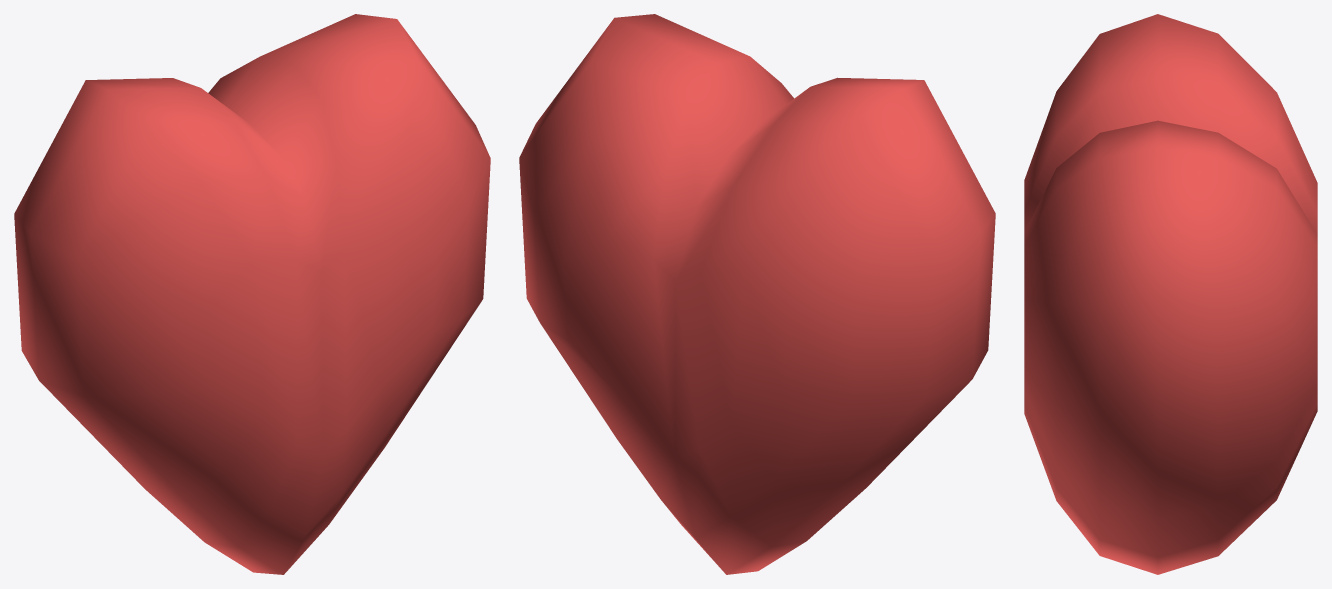
Rendered from health power.fbx.
The picture shows the model from 3 angles, left to right: view 1: azimuth 30°, elevation 25°; view 2: azimuth 150°, elevation 25°; view 3: azimuth 270°, elevation 25°; orthographic projection. The views are drawn at different scales.
Visible parts, largest first — view 1: Cube; view 2: Cube; view 3: Cube.
Part boxes in pixels (x1,y1,x2,y2): Cube: [14, 14, 490, 574]; Cube: [519, 14, 995, 574]; Cube: [1024, 14, 1317, 574].
Bounding box in the file's own units: 261 × 290 × 156.
